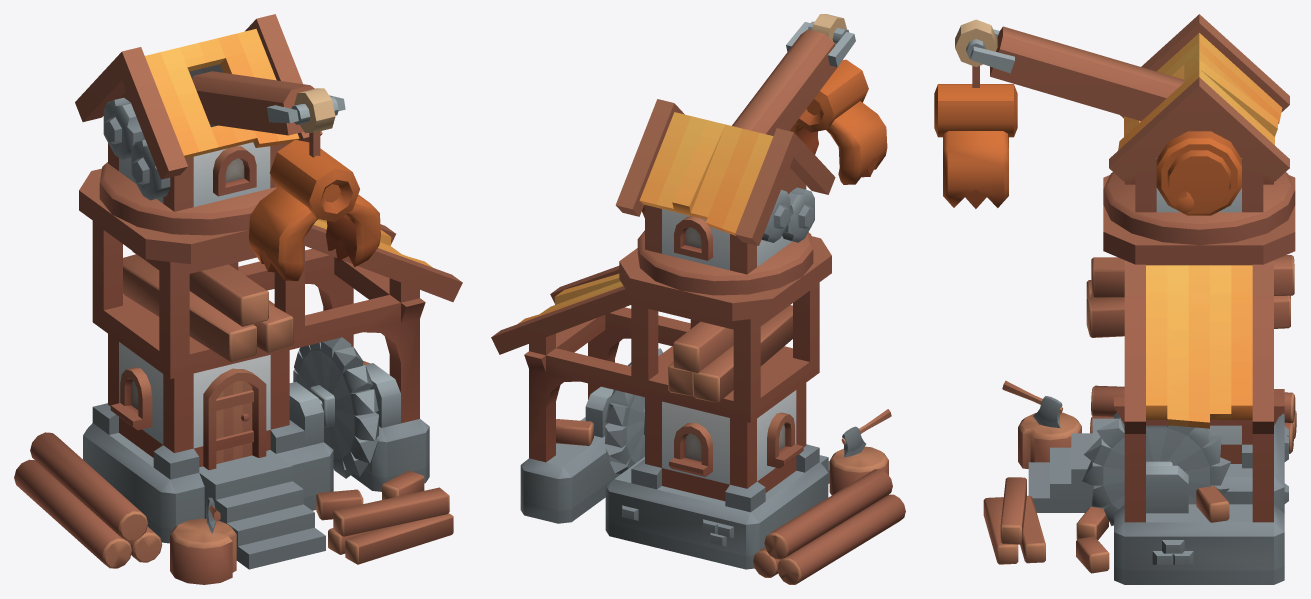
File: kaykit-medieval-hexagon-pack-building-lumbermill-yellow.glb
The picture shows the model from 3 angles, left to right: view 1: azimuth 30°, elevation 25°; view 2: azimuth 150°, elevation 25°; view 3: azimuth 270°, elevation 25°; orthographic projection. The views are drawn at different scales.
Visible parts, largest first — view 1: building_lumbermill_yellow, building_lumbermill_top_yellow, building_lumbermill_saw_yellow; view 2: building_lumbermill_yellow, building_lumbermill_top_yellow, building_lumbermill_saw_yellow; view 3: building_lumbermill_yellow, building_lumbermill_top_yellow, building_lumbermill_saw_yellow.
Boxes of the visible parts, box(x1,y1,x2,y2) form: building_lumbermill_yellow: box(14, 168, 462, 584); building_lumbermill_top_yellow: box(75, 14, 380, 280); building_lumbermill_saw_yellow: box(293, 337, 378, 478); building_lumbermill_yellow: box(491, 236, 905, 584); building_lumbermill_top_yellow: box(615, 14, 887, 295); building_lumbermill_saw_yellow: box(605, 348, 662, 474); building_lumbermill_yellow: box(983, 175, 1296, 584); building_lumbermill_top_yellow: box(934, 14, 1295, 245); building_lumbermill_saw_yellow: box(1082, 417, 1231, 525).
Bounding box in the file's own units: 1.37 × 1.71 × 1.19.
1 material, 1 textured.
